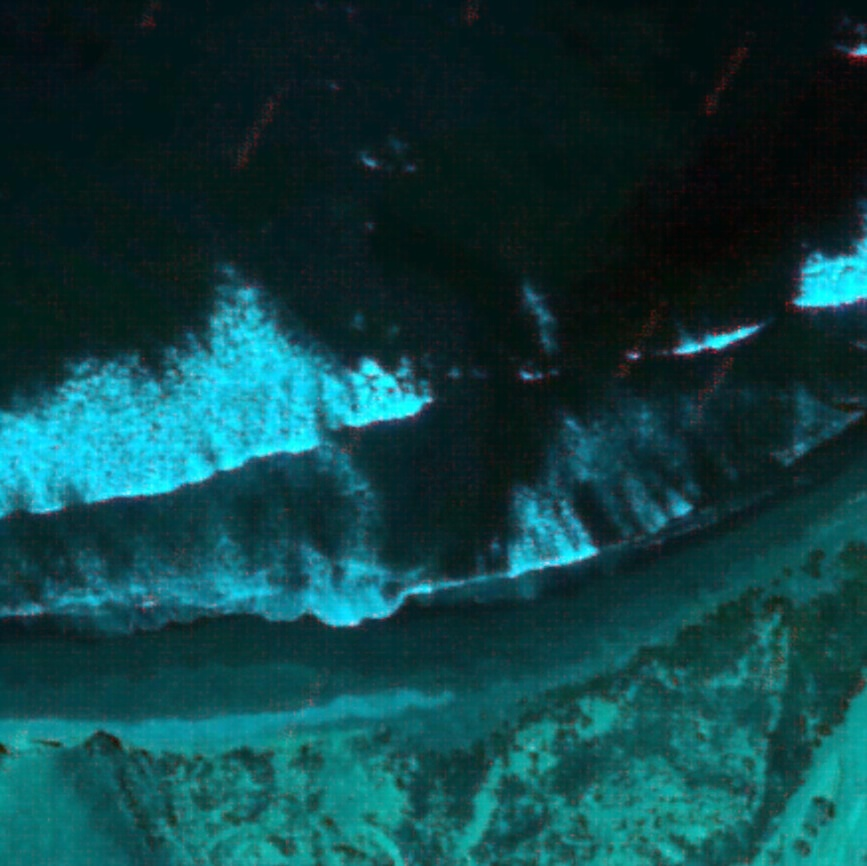rip_current: (288, 214, 584, 543)
